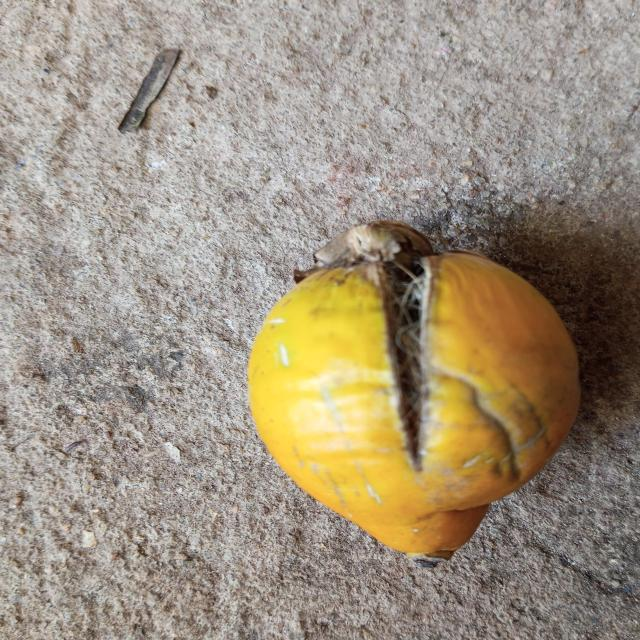damaged: (250, 223, 579, 560)
